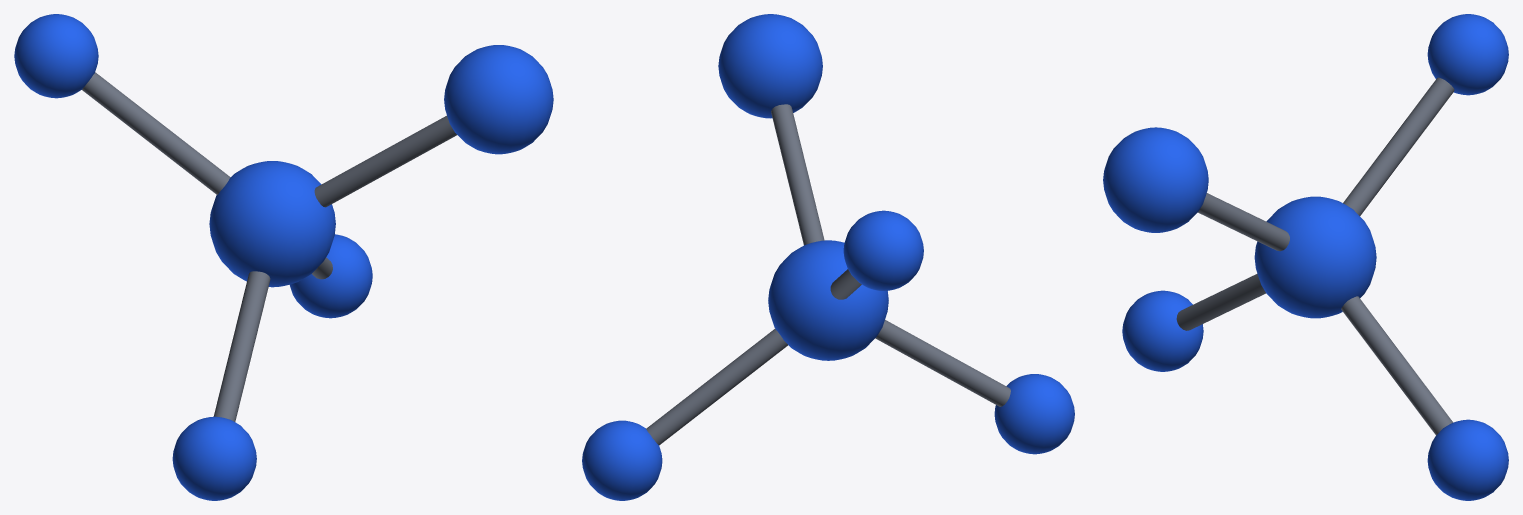
3 renders of one model, left to right at view 1: azimuth 30°, elevation 25°; view 2: azimuth 150°, elevation 25°; view 3: azimuth 270°, elevation 25°, orthographic. The views are drawn at different scales.
Visible parts, largest first — view 1: C1, F1, H3, H2, H1, object 8, object 6, object 9; view 2: C1, F1, H2, H1, H3, object 7, object 9, object 6, object 8; view 3: C1, F1, H1, H2, H3, object 7, object 8, object 6, object 9.
Part boxes in pixels (x1,y1,x2,y2): C1: [209, 161, 335, 287]; F1: [444, 45, 553, 154]; H3: [172, 416, 256, 500]; H2: [14, 14, 98, 98]; H1: [290, 234, 372, 318]; object 8: [82, 72, 230, 194]; object 6: [314, 115, 456, 207]; object 9: [213, 271, 270, 421]; C1: [768, 240, 888, 360]; F1: [718, 14, 822, 118]; H2: [843, 210, 923, 290]; H1: [582, 420, 662, 500]; H3: [994, 374, 1074, 454]; object 7: [646, 329, 787, 445]; object 9: [875, 320, 1010, 406]; object 6: [771, 104, 824, 245]; object 8: [830, 269, 861, 299]; C1: [1254, 196, 1376, 318]; F1: [1103, 127, 1208, 232]; H1: [1427, 419, 1508, 500]; H2: [1427, 14, 1508, 95]; H3: [1122, 290, 1203, 371]; object 7: [1341, 296, 1452, 435]; object 8: [1343, 77, 1454, 215]; object 6: [1198, 193, 1289, 251]; object 9: [1176, 273, 1265, 330].
Bounding box in the file's own units: 0.2994 × 0.2994 × 0.2994.
